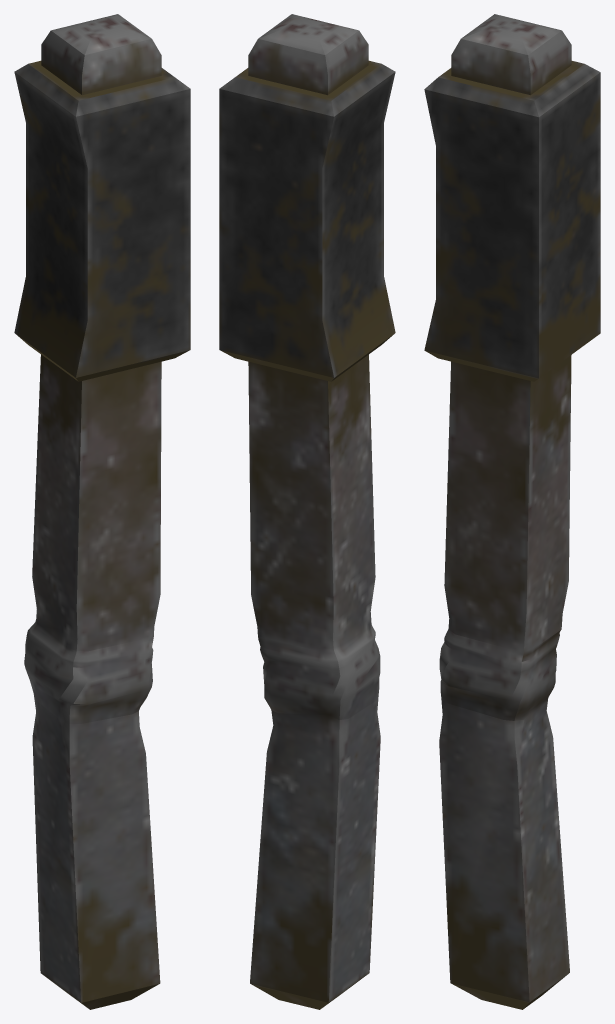
Rendered from Control Panel Lever.fbx.
The picture shows the model from 3 angles, left to right: view 1: azimuth 30°, elevation 25°; view 2: azimuth 150°, elevation 25°; view 3: azimuth 330°, elevation 25°; orthographic projection.
Visible parts, largest first — view 1: Cube.031; view 2: Cube.031; view 3: Cube.031.
Part boxes in pixels (x1=…): Cube.031: x1=14, y1=14, x2=190, y2=1009; Cube.031: x1=219, y1=14, x2=395, y2=1009; Cube.031: x1=424, y1=14, x2=600, y2=1009.
Bounding box in the file's own units: 4.97 × 39.56 × 4.55.
